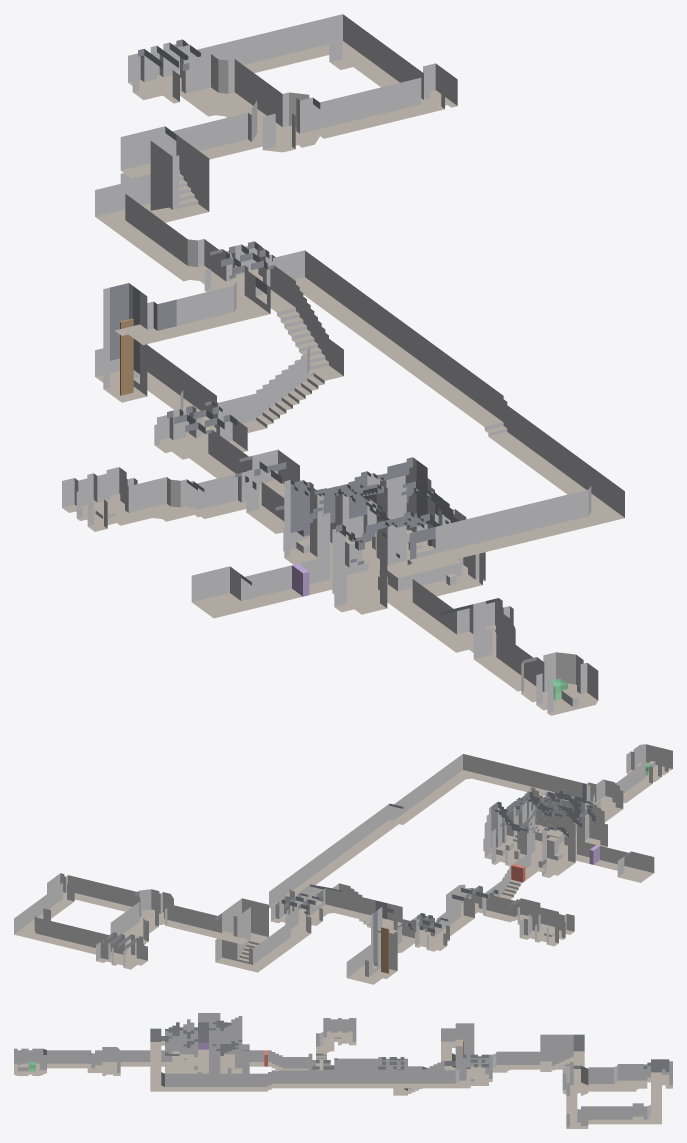
The model's file is underground_2.glb.
The picture shows the model from 3 angles, top to bottom: view 1: azimuth 30°, elevation 25°; view 2: azimuth 150°, elevation 25°; view 3: azimuth 270°, elevation 25°; orthographic projection. The views are drawn at different scales.
Visible parts, largest first — view 1: corridor_14.structure, corridor_12.structure, room_4_megaroom.structure, corridor_13.structure, room_11_stairwell.structure, room_4_megaroom.cavern, corridor_10.structure, corridor_1.structure, corridor_8.structure, corridor_6.structure, room_12_ladder.structure, corridor_7.structure (+22 smaller); view 2: corridor_14.structure, room_4_megaroom.structure, room_11_stairwell.structure, corridor_12.structure, room_4_megaroom.cavern, corridor_1.structure, corridor_10.structure, room_12_ladder.structure, corridor_0.structure, corridor_7.structure, room_4_megaroom.portals, corridor_8.structure (+24 smaller); view 3: corridor_14.structure, room_4_megaroom.structure, corridor_12.structure, room_11_stairwell.structure, corridor_8.structure, corridor_10.structure, room_4_megaroom.cavern, corridor_3.structure, corridor_5.structure, room_9_combat.structure, room_5_combat.structure, room_6_exit.structure (+19 smaller).
Part boxes in pixels (left/top/right/bottom): corridor_14.structure: left=279, top=250, right=624, bottom=559; corridor_12.structure: left=196, top=14, right=416, bottom=87; room_4_megaroom.structure: left=284, top=457, right=482, bottom=614; corridor_13.structure: left=218, top=268, right=343, bottom=432; room_11_stairwell.structure: left=120, top=126, right=209, bottom=222; room_4_megaroom.cavern: left=290, top=457, right=458, bottom=565; corridor_10.structure: left=95, top=184, right=218, bottom=281; corridor_1.structure: left=128, top=274, right=270, bottom=344; corridor_8.structure: left=187, top=54, right=282, bottom=133; corridor_6.structure: left=141, top=473, right=242, bottom=521; room_12_ladder.structure: left=103, top=283, right=147, bottom=402; corridor_7.structure: left=313, top=81, right=418, bottom=138; corridor_14.structure: left=269, top=754, right=567, bottom=908; room_4_megaroom.structure: left=484, top=787, right=604, bottom=875; room_11_stairwell.structure: left=215, top=898, right=268, bottom=968; corridor_12.structure: left=14, top=886, right=109, bottom=954; room_4_megaroom.cavern: left=491, top=790, right=595, bottom=840; corridor_1.structure: left=314, top=888, right=402, bottom=929; corridor_10.structure: left=242, top=911, right=311, bottom=972; room_12_ladder.structure: left=371, top=906, right=397, bottom=978; corridor_0.structure: left=165, top=905, right=221, bottom=937; corridor_7.structure: left=77, top=879, right=139, bottom=911; room_4_megaroom.portals: left=527, top=802, right=589, bottom=868; corridor_8.structure: left=110, top=902, right=158, bottom=949; corridor_14.structure: left=150, top=1049, right=470, bottom=1091; room_4_megaroom.structure: left=165, top=1016, right=242, bottom=1073; corridor_12.structure: left=588, top=1088, right=661, bottom=1124; room_11_stairwell.structure: left=540, top=1034, right=584, bottom=1071; corridor_8.structure: left=588, top=1064, right=647, bottom=1091; corridor_10.structure: left=492, top=1051, right=562, bottom=1072; room_4_megaroom.cavern: left=165, top=1020, right=242, bottom=1055; corridor_3.structure: left=242, top=1050, right=308, bottom=1070; corridor_5.structure: left=47, top=1050, right=91, bottom=1068; room_9_combat.structure: left=640, top=1059, right=672, bottom=1088; room_5_combat.structure: left=87, top=1047, right=120, bottom=1075; room_6_exit.structure: left=14, top=1048, right=46, bottom=1075.
Bounding box in the file's own units: 96 × 21 × 179.
